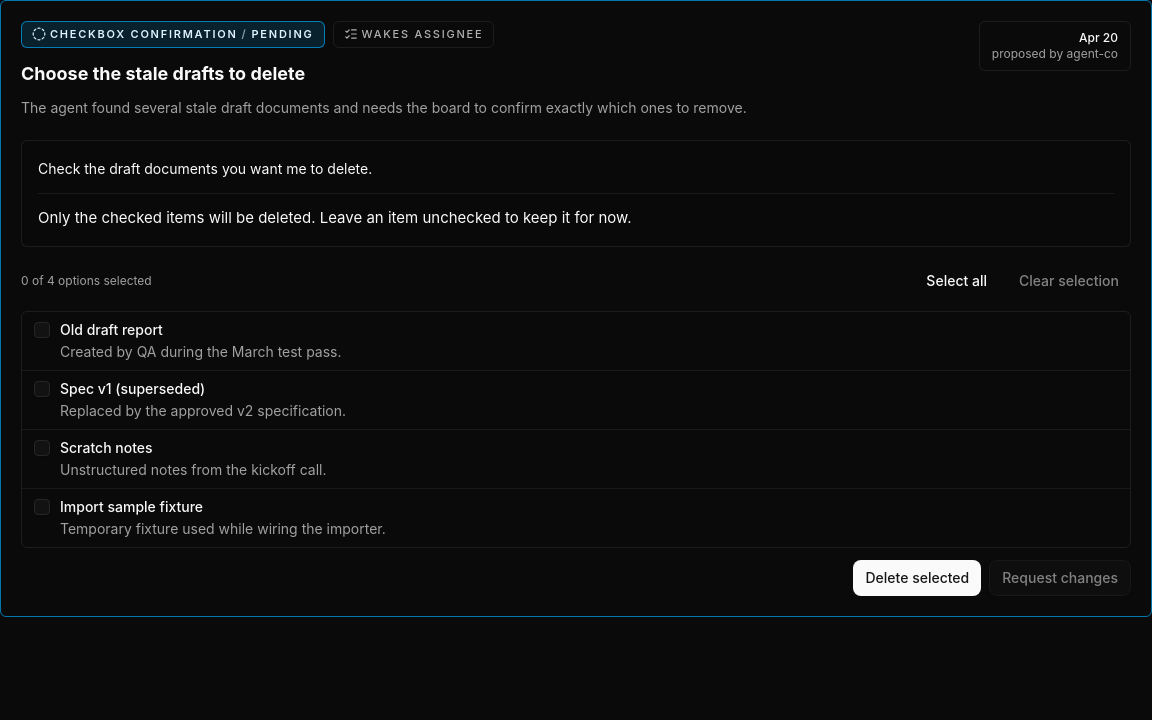
IssueThreadInteractionCard › exposes pending checkbox options with select-all and clear controls
The image size is (1152, 720).
Click the button "Select all" at (957, 280), box 914,262 -> 999,298
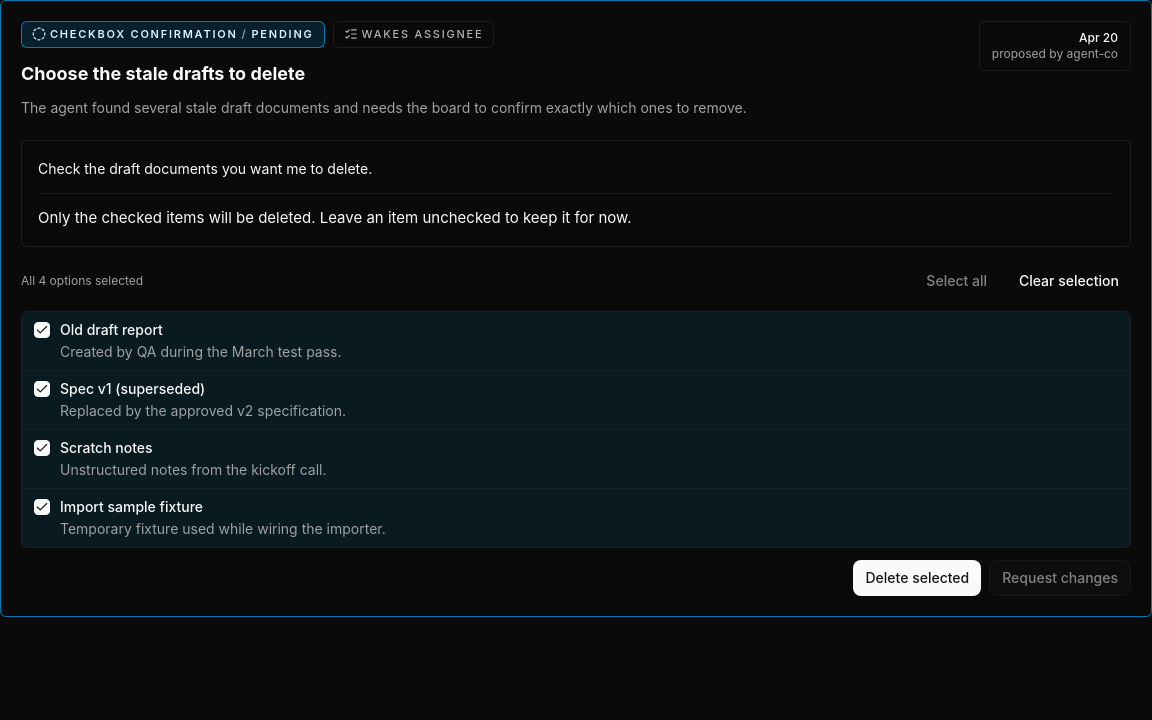
Result: the text "All 4 options selected" is shown at 21,272 -> 143,288
Click the button "Clear selection" at (1069, 280), box 1007,262 -> 1131,298
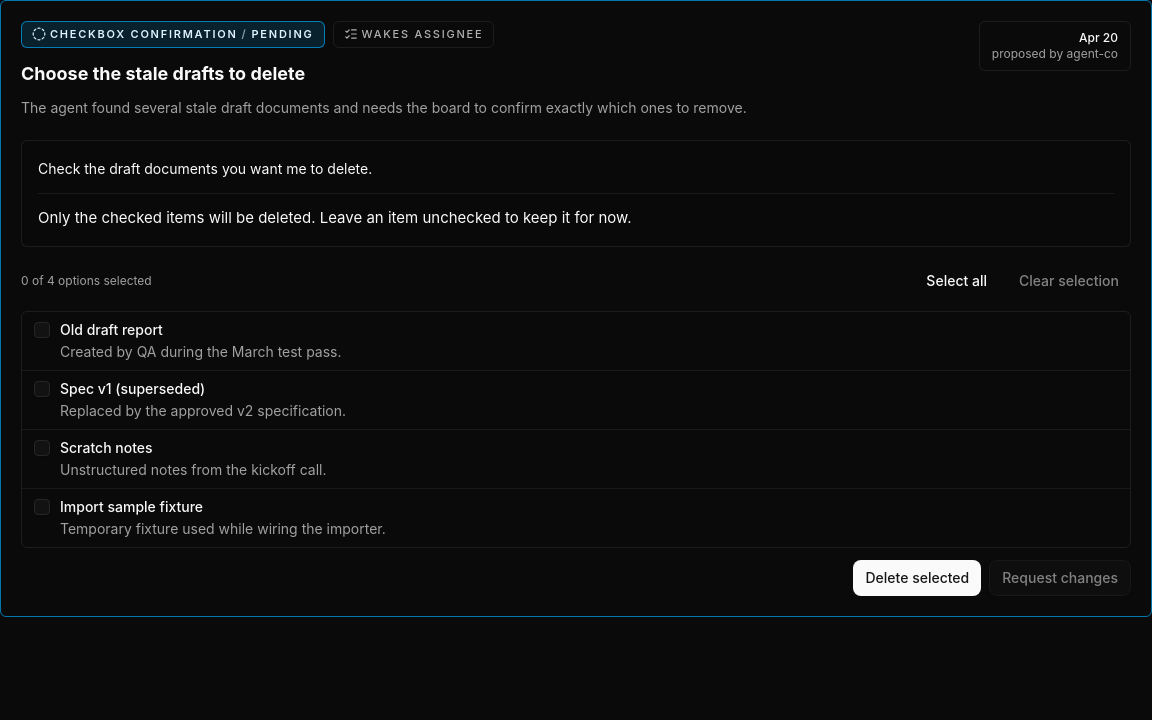
Result: the text "0 of 4 options selected" is shown at 21,272 -> 152,288
